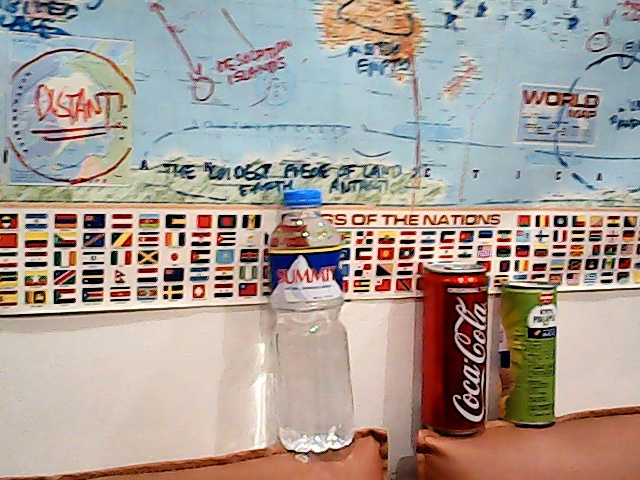Cola: (420, 254, 494, 442)
Pine Juice: (491, 276, 563, 429)
Summit Water: (269, 189, 350, 459)
